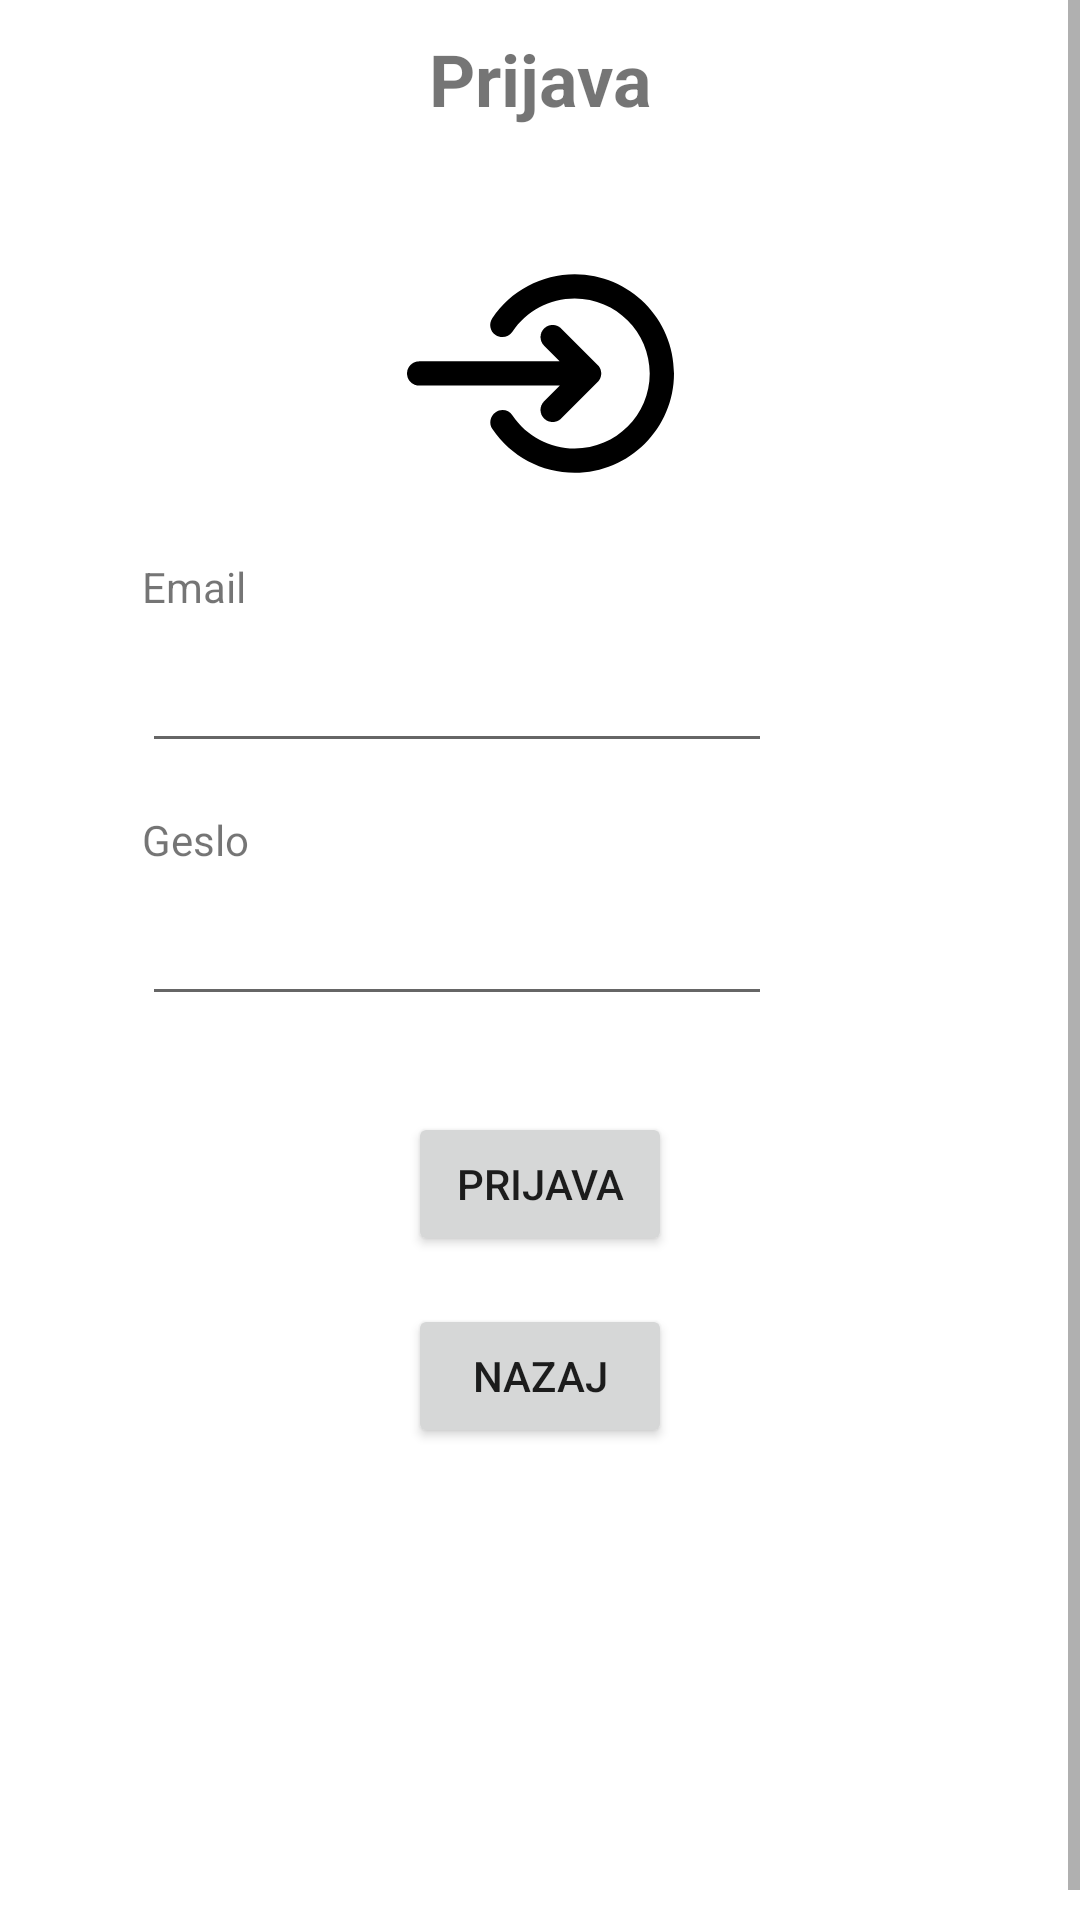

Locate icon controls on the screen. Image size 1080×1920, boxes as (x1, y1, x2, y2).
login: (407, 274, 674, 473)
